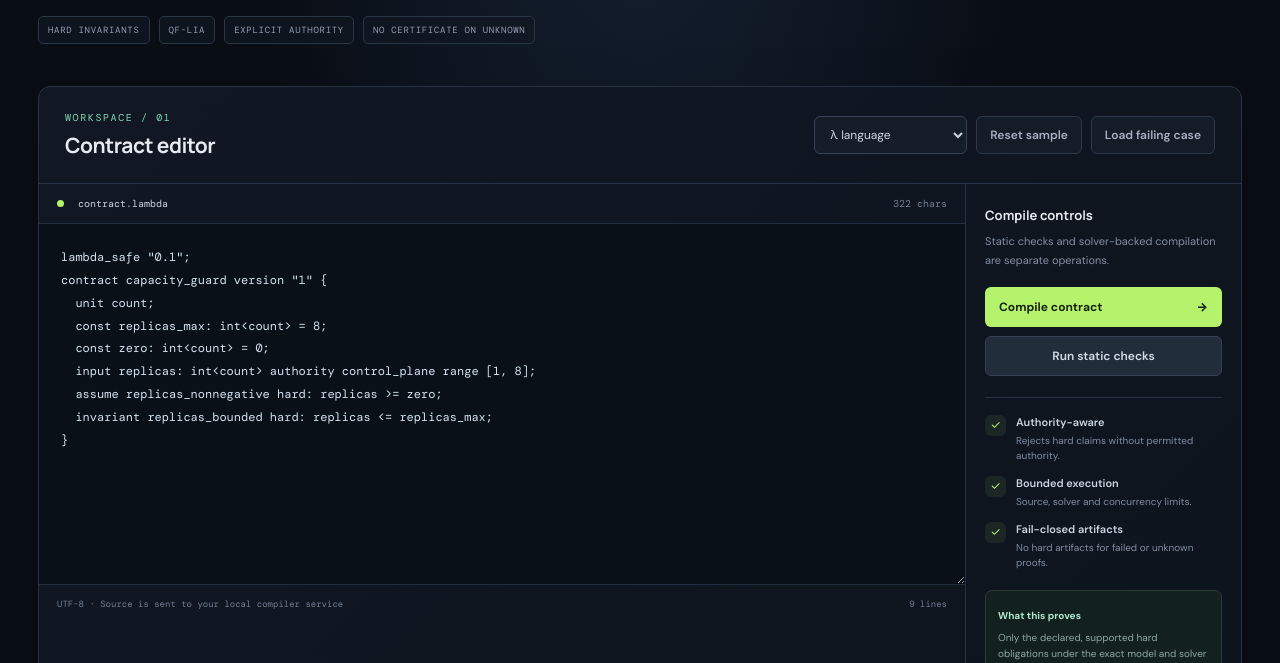
Test: λ-Safe compiler UI › sends compile requests to the public API and displays returned status
(page scrolled)
Click the button "Compile contract →" at (1104, 307), box [985,287,1222,327]
(page scrolled)
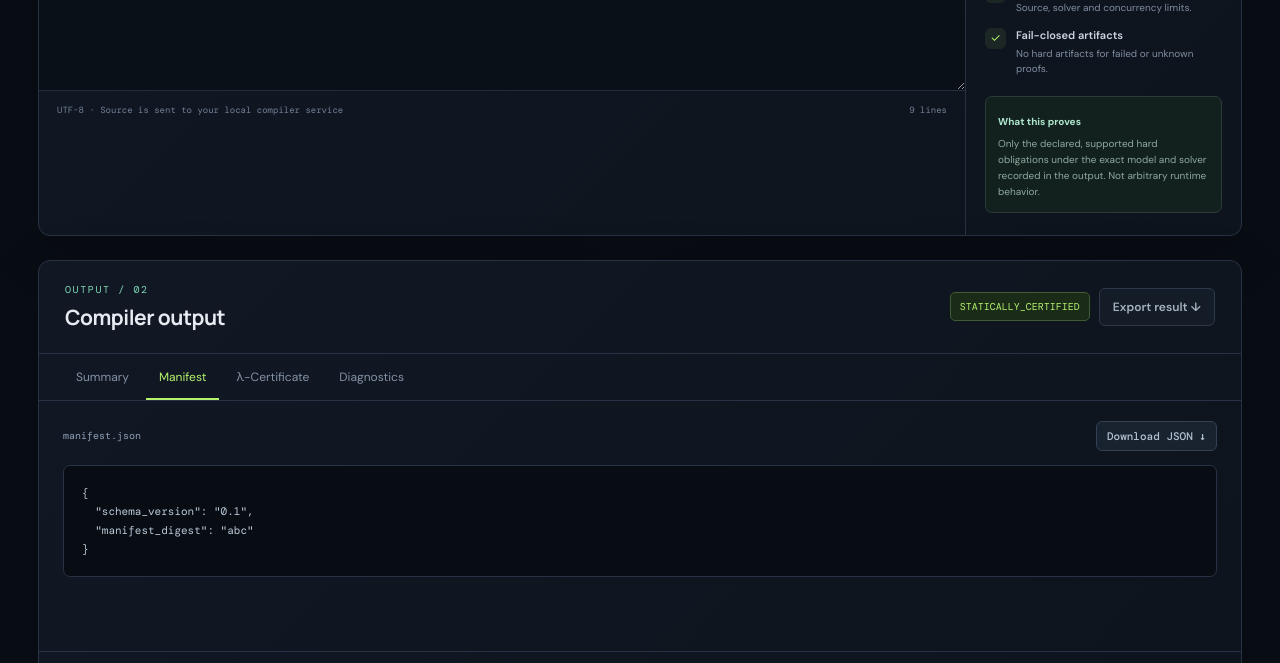
Expected: the text "STATICALLY_CERTIFIED" is shown, [950,292,1090,321]
